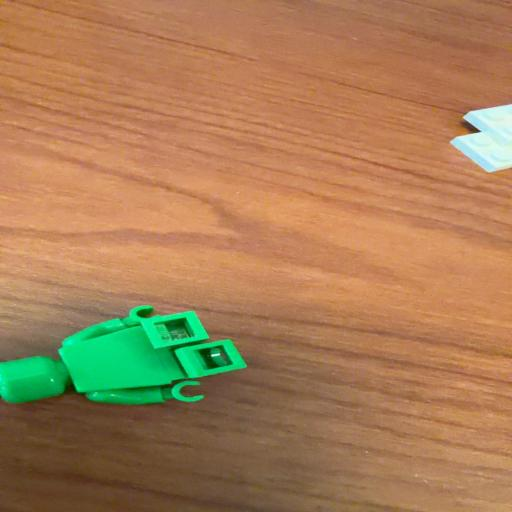UnoQ-minifig-detector: (0, 305, 247, 405)
